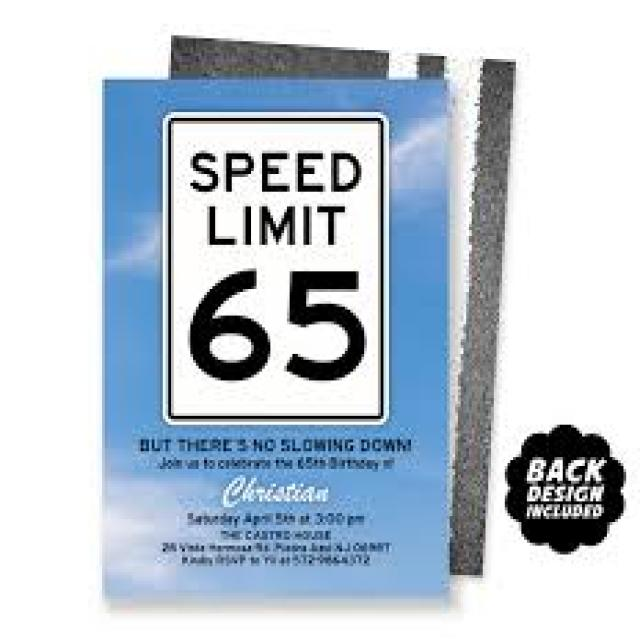speedLimit65: (159, 106, 396, 428)
